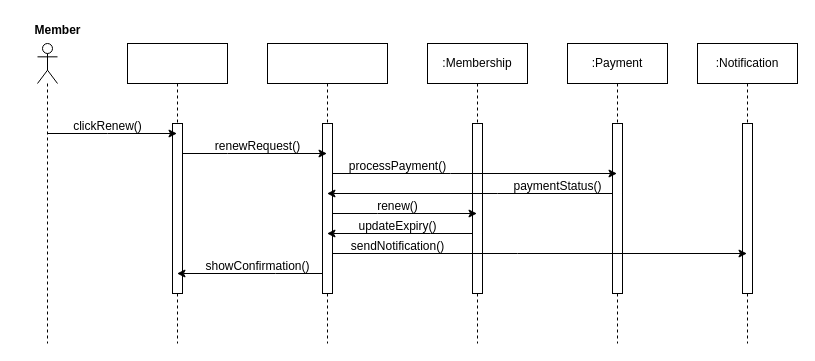
Some shapes in this 815 by 361 pixel diagram are drawn without their labels. Here are the shapes that lost their labels. From the top down, the box of each, then its label:
(126, 42, 228, 344): :MembershipUI
(266, 42, 388, 344): :MembershipController
